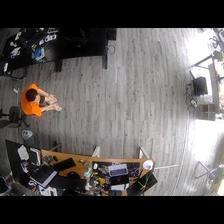normal: (17, 82, 61, 116)
